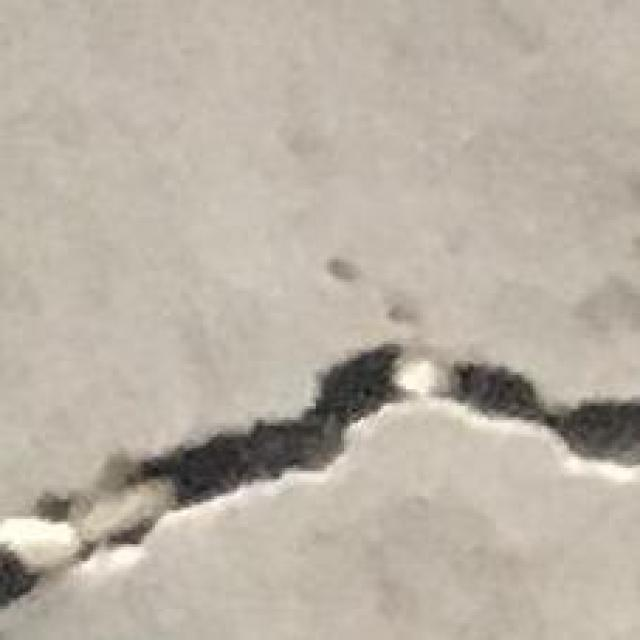curved crack: (0, 344, 639, 607)
